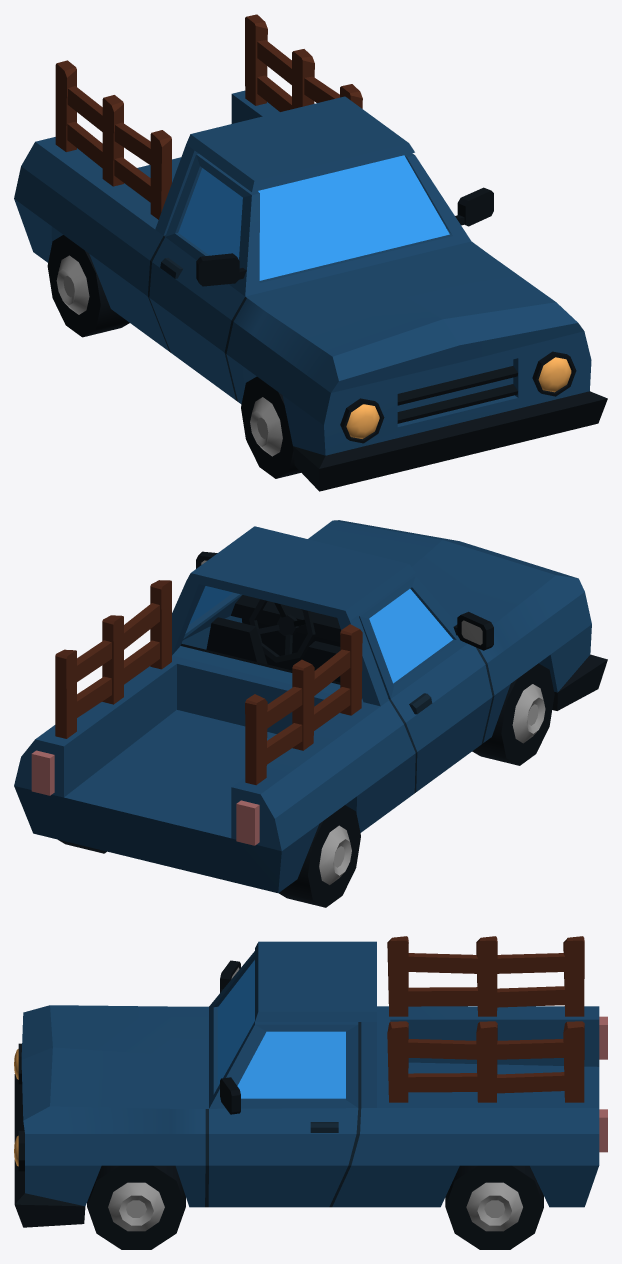
The model's file is Pickup.fbx.
The picture shows the model from 3 angles, top to bottom: view 1: azimuth 30°, elevation 25°; view 2: azimuth 150°, elevation 25°; view 3: azimuth 270°, elevation 25°; orthographic projection. The views are drawn at different scales.
Visible parts, largest first — view 1: Pickup; view 2: Pickup; view 3: Pickup.
Part boxes in pixels (box(x1,y1,x2,y2)): Pickup: box(14, 14, 607, 491); Pickup: box(14, 520, 607, 907); Pickup: box(14, 936, 607, 1249).
Bounding box in the file's own units: 72.45 × 54.2 × 136.
